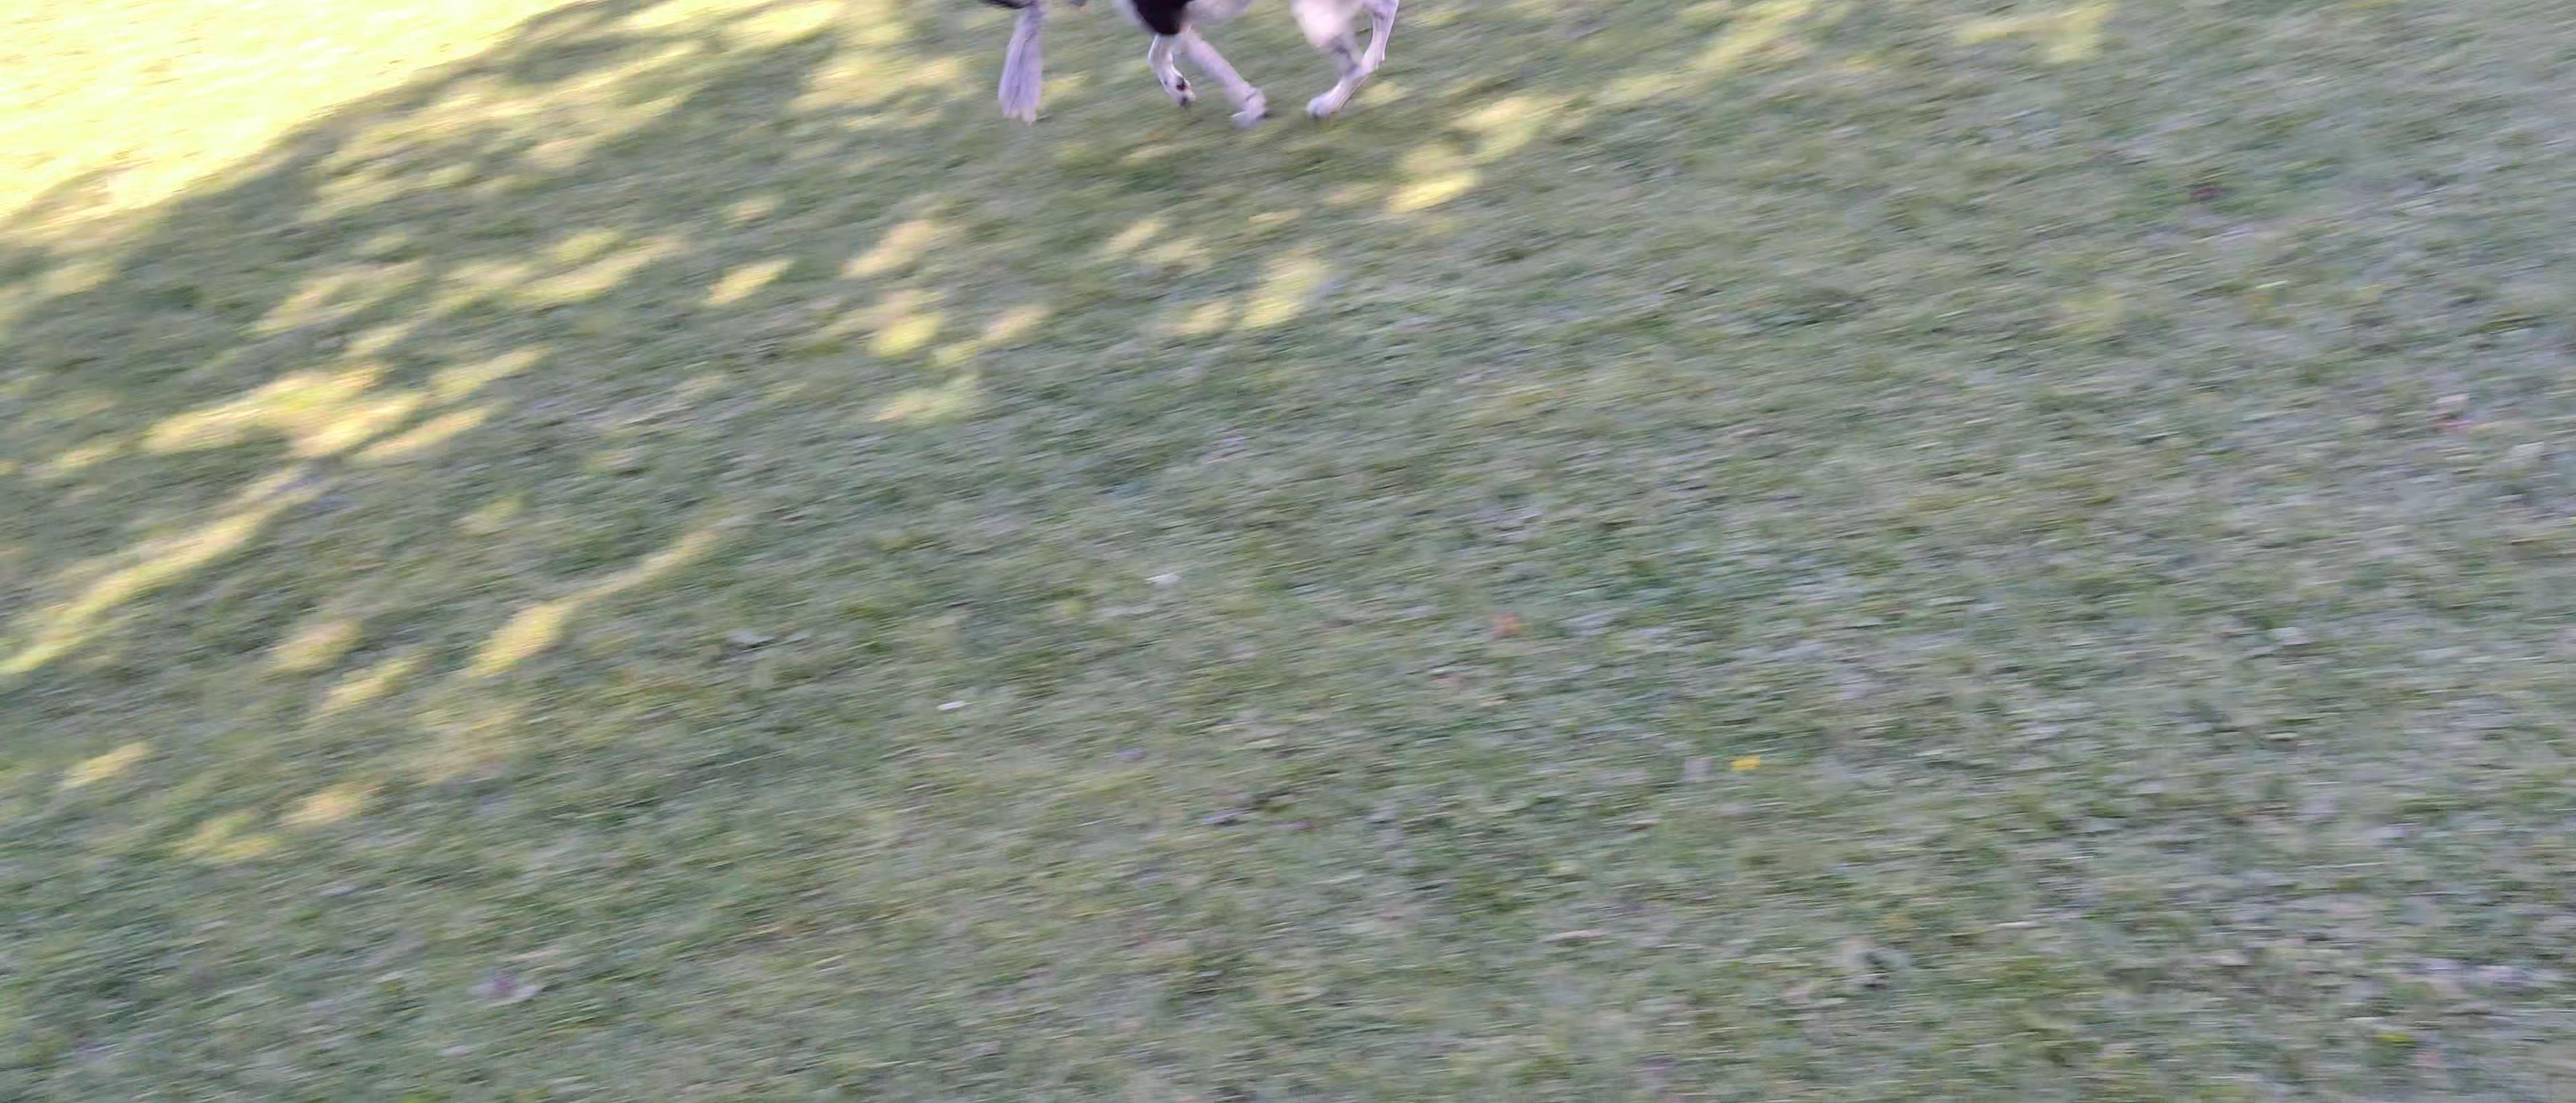Dog: (971, 0, 1401, 135)
